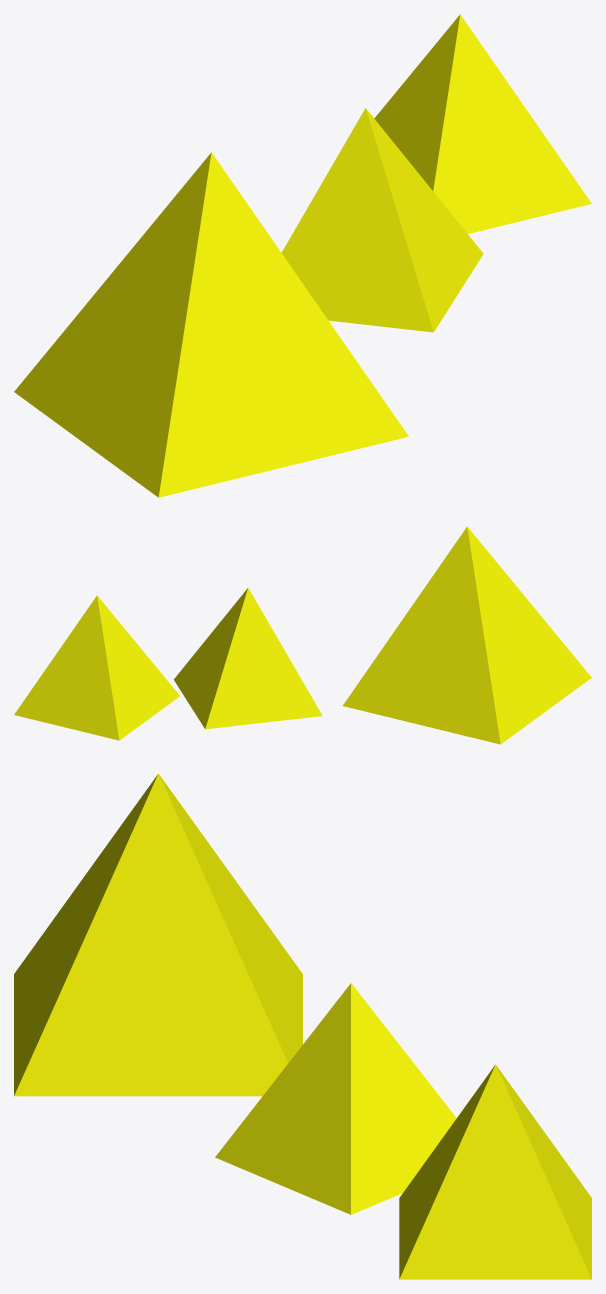
3 views of the same model, one above another, from view 1: azimuth 30°, elevation 25°; view 2: azimuth 150°, elevation 25°; view 3: azimuth 270°, elevation 25° (orthographic). The views are drawn at different scales.
Parts seen in each view (by area): view 1: Pyramid2, Pyramid1, Pyramid3; view 2: Pyramid2, Pyramid3, Pyramid1; view 3: Pyramid2, Pyramid1, Pyramid3.
Part boxes in pixels (x1,y1,x2,y2): Pyramid2: (14, 152, 408, 497); Pyramid1: (281, 108, 483, 332); Pyramid3: (374, 14, 591, 233); Pyramid2: (343, 526, 591, 744); Pyramid3: (14, 595, 179, 740); Pyramid1: (173, 588, 322, 729); Pyramid2: (14, 773, 302, 1096); Pyramid1: (215, 983, 456, 1214); Pyramid3: (399, 1064, 591, 1279).
Bounding box in the file's own units: 15 × 6 × 12.
